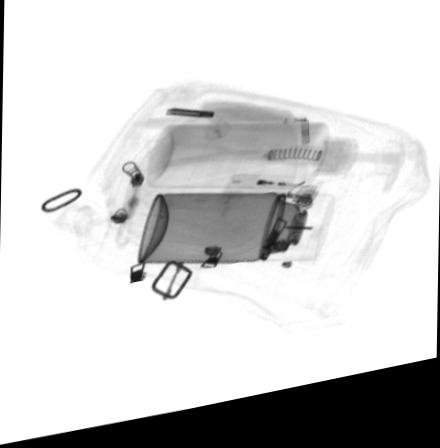Lighter: (222, 183, 322, 225)
Sprayer: (137, 199, 335, 273)
